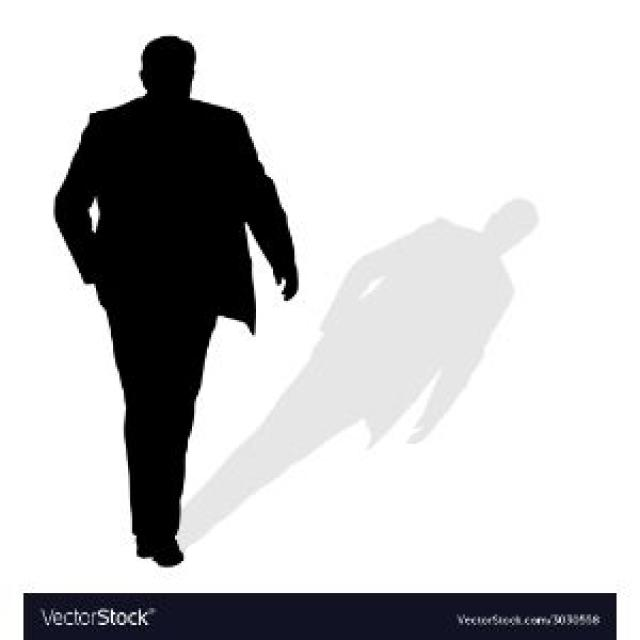nonfall: (49, 32, 304, 573)
